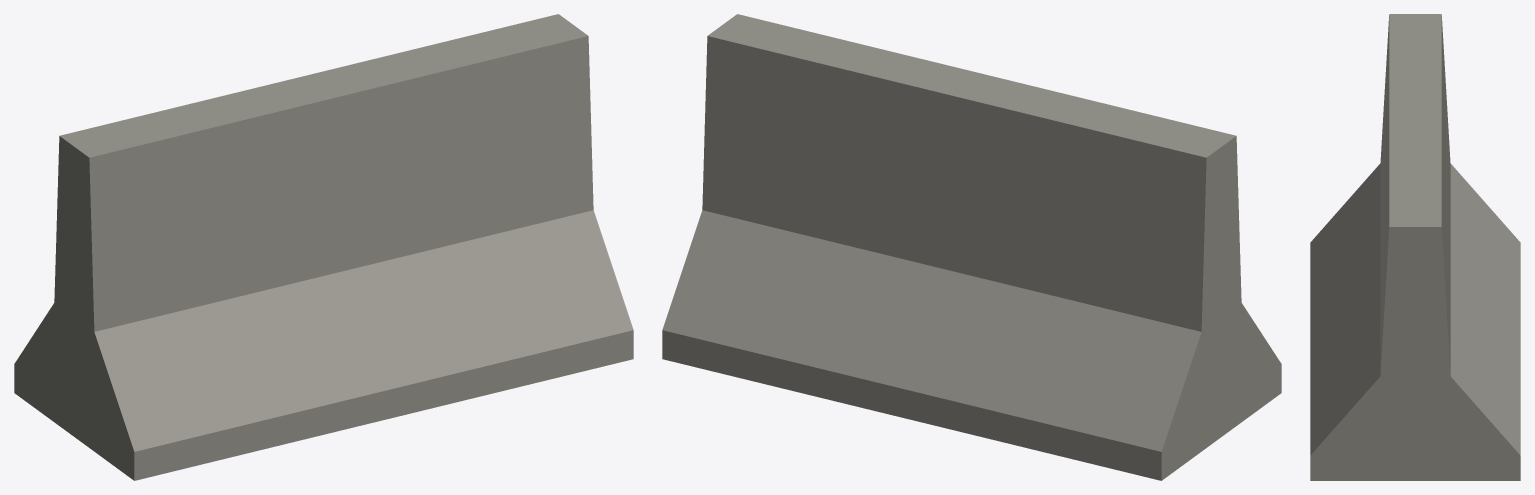
The model's file is jersey_barrier.glb.
3 renders of one model, left to right at view 1: azimuth 30°, elevation 25°; view 2: azimuth 150°, elevation 25°; view 3: azimuth 270°, elevation 25°, orthographic. The views are drawn at different scales.
Visible parts, largest first — view 1: jersey_barrier; view 2: jersey_barrier; view 3: jersey_barrier.
Boxes of the visible parts, x1,y1,x2,y2 form: jersey_barrier: [14, 14, 633, 480]; jersey_barrier: [662, 14, 1281, 480]; jersey_barrier: [1310, 14, 1520, 480].
Size of the model in its own units: 1.44 by 0.8 by 0.6.
Materials: 1 (1 with a texture image).
